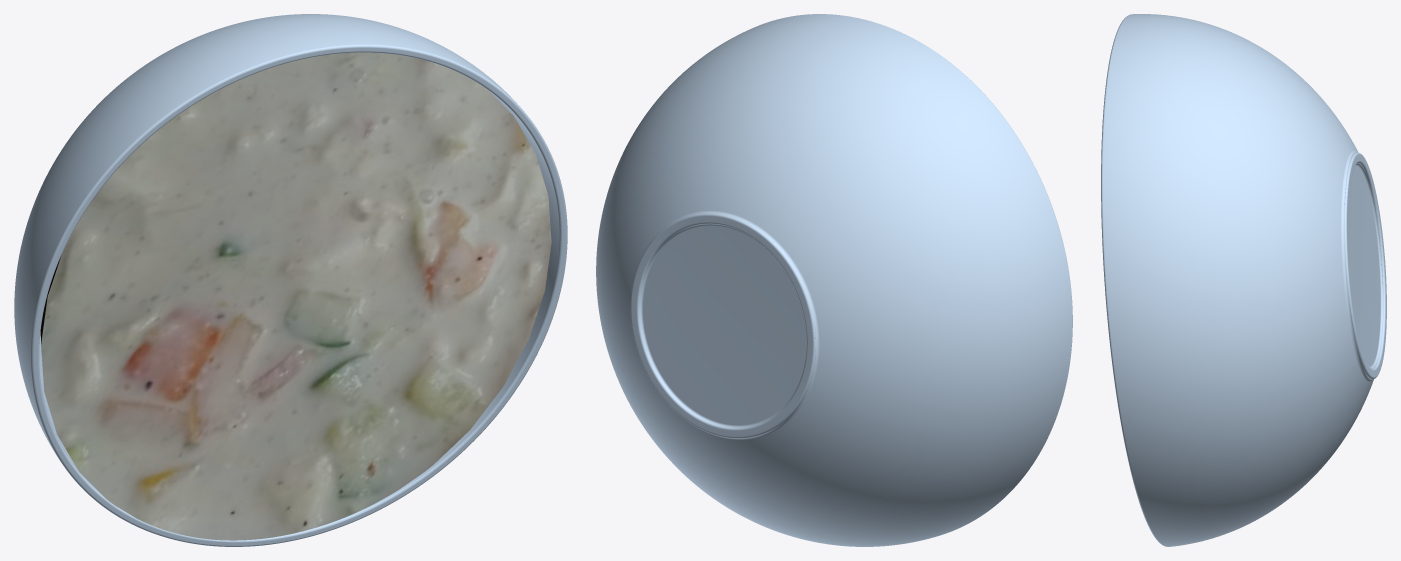
The model's file is raita.glb.
3 renders of one model, left to right at view 1: azimuth 30°, elevation 25°; view 2: azimuth 150°, elevation 25°; view 3: azimuth 270°, elevation 25°, orthographic. The views are drawn at different scales.
Visible parts, largest first — view 1: coffee.004, Kugel.003; view 2: Kugel.003; view 3: Kugel.003.
Part boxes in pixels (box(x1,y1,x2,y2)): coffee.004: box(40, 52, 551, 540); Kugel.003: box(14, 14, 567, 546); Kugel.003: box(596, 14, 1072, 546); Kugel.003: box(1101, 14, 1386, 546).
Size of the model in its own units: 4.47 by 4.46 by 2.41.
2 materials, 1 textured.
